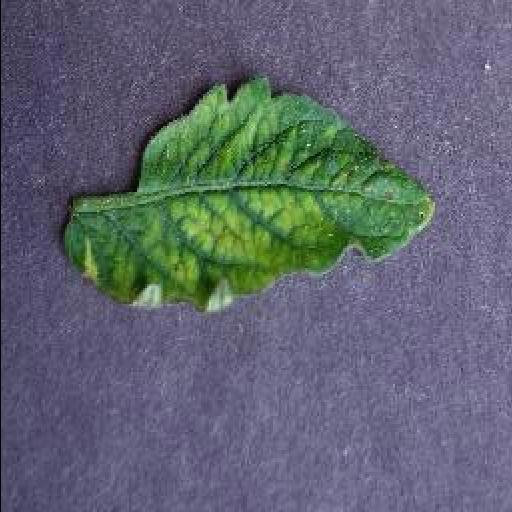disease_tomato: (60, 76, 438, 314)
